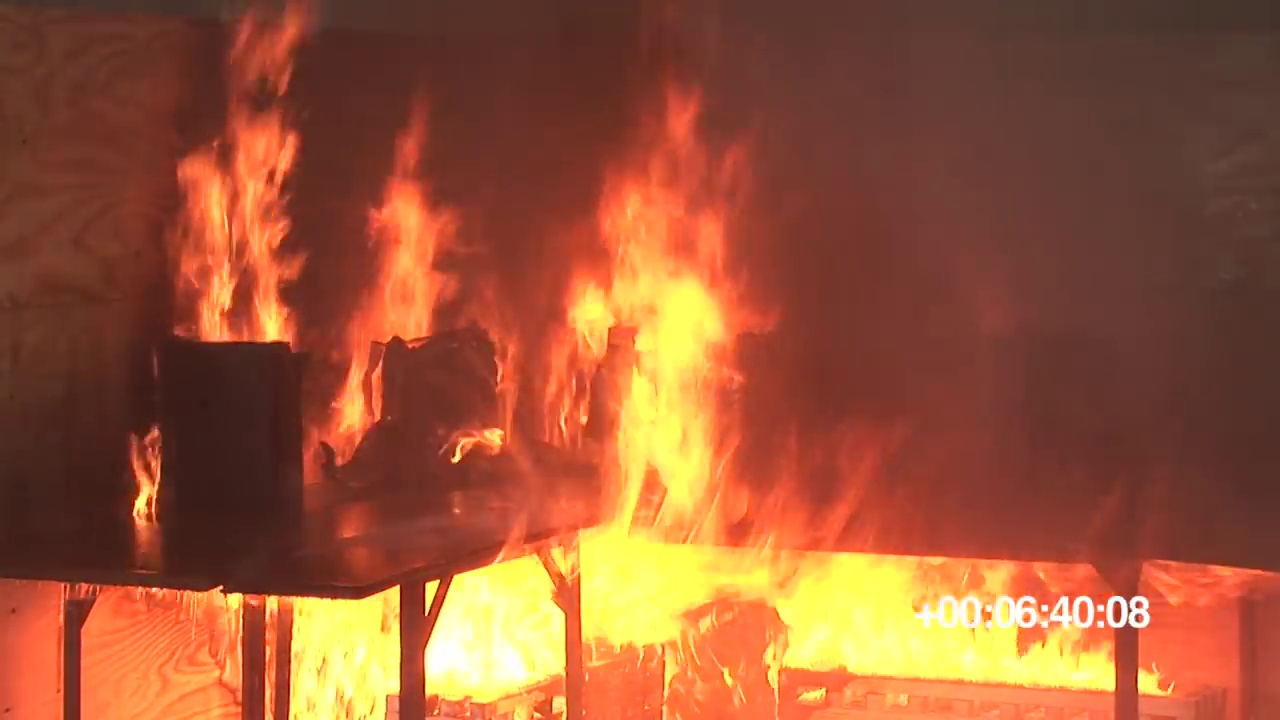fire: (280, 567, 1168, 694), (551, 95, 736, 531), (172, 14, 306, 342), (361, 109, 446, 342), (128, 431, 154, 521)
